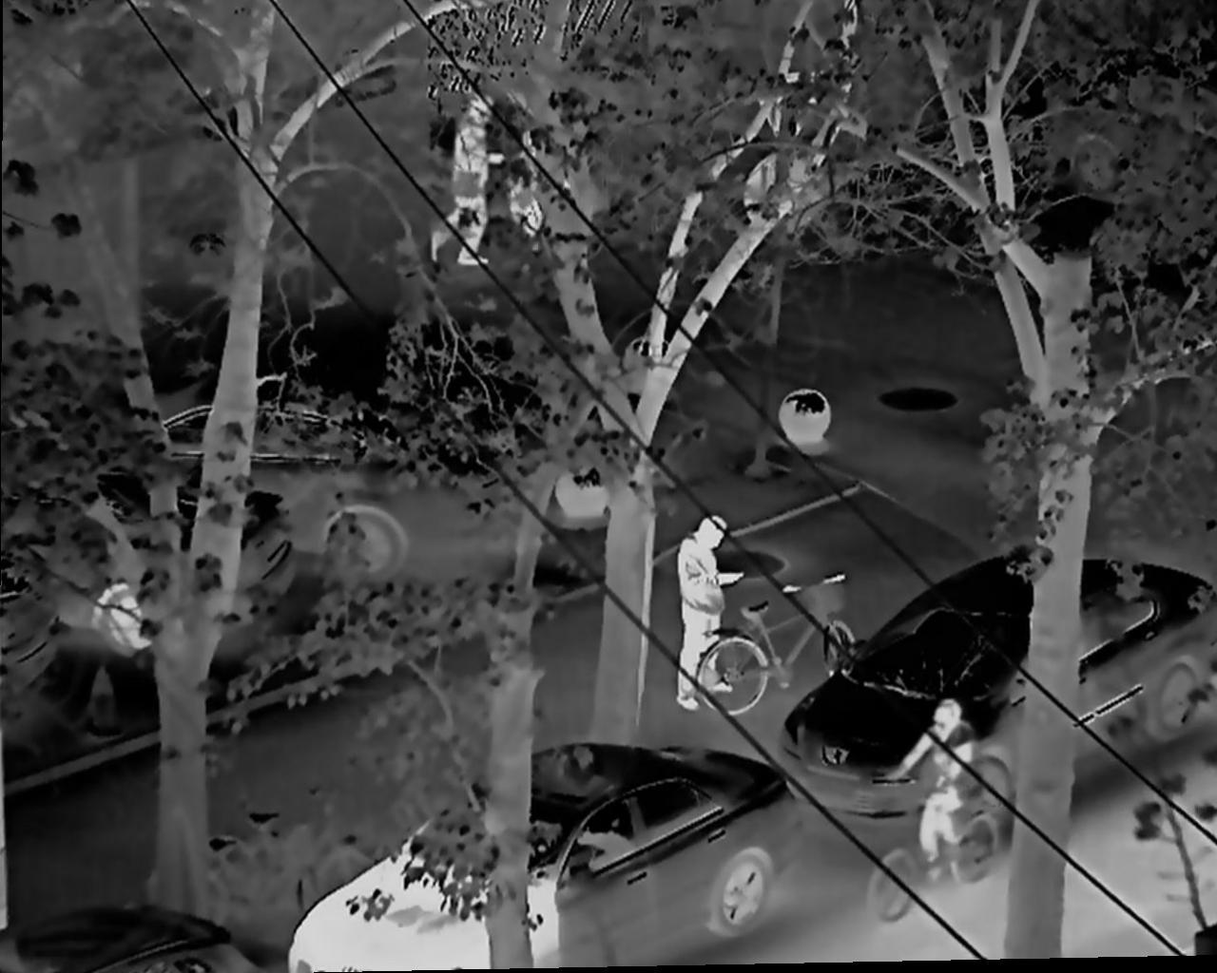person: (889, 690, 985, 882), (673, 517, 748, 715), (433, 94, 495, 263)
